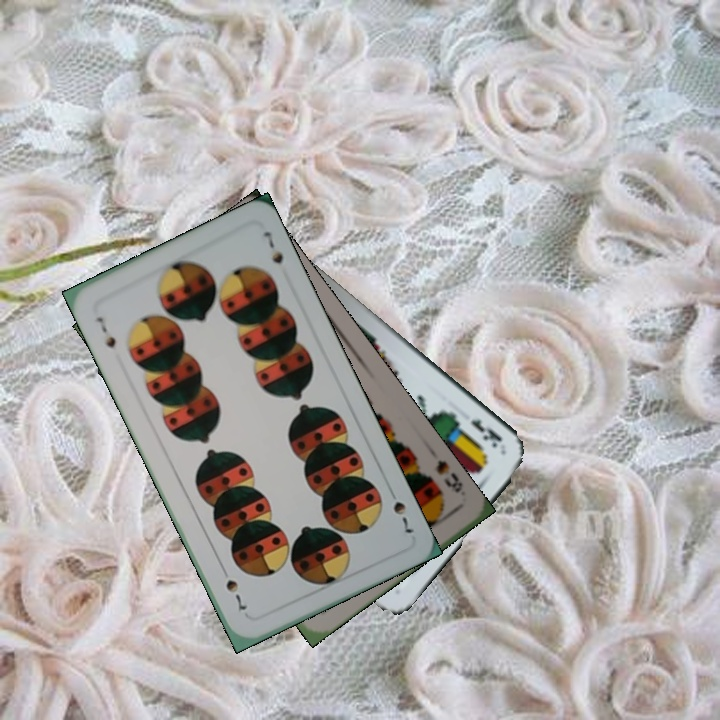EK: (466, 415, 505, 451)
S7: (384, 483, 417, 536), (92, 313, 119, 351)
S8: (432, 455, 466, 496)
